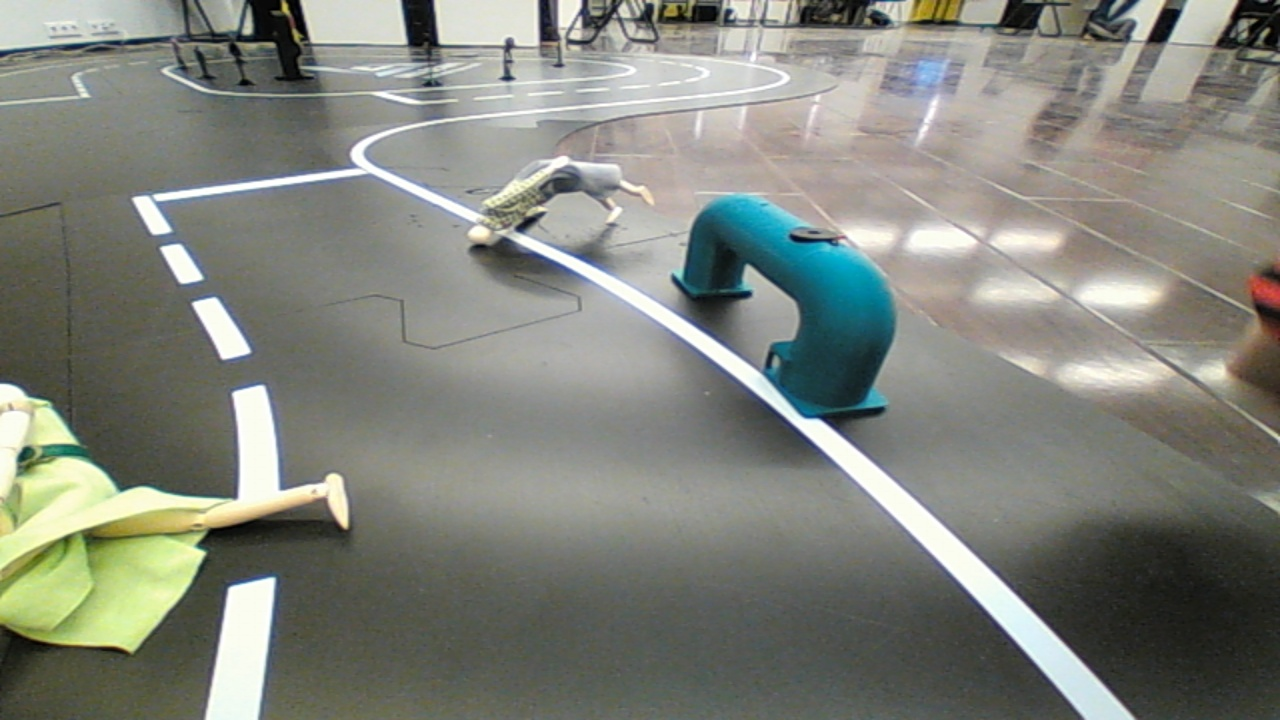Pedestrian crossing: (657, 192, 921, 409)
Road works: (5, 365, 392, 632), (438, 143, 655, 257)
